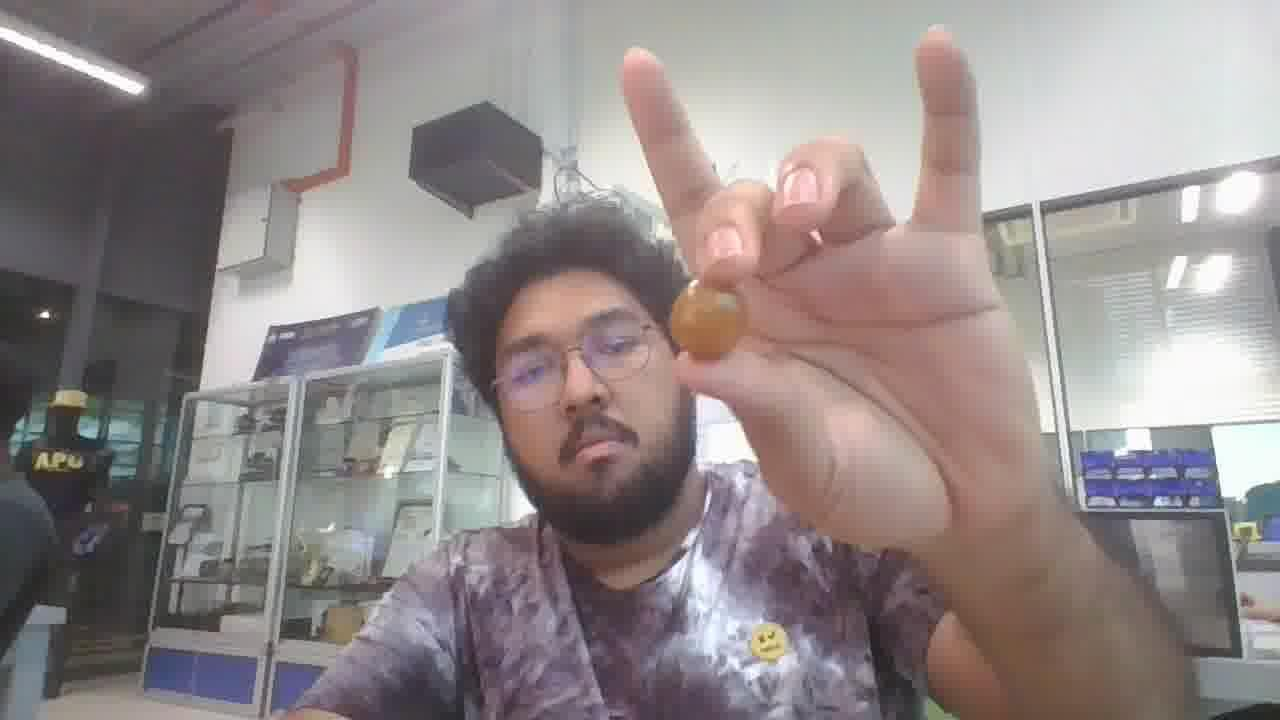yellow_cherry_tomato: (670, 280, 746, 359)
